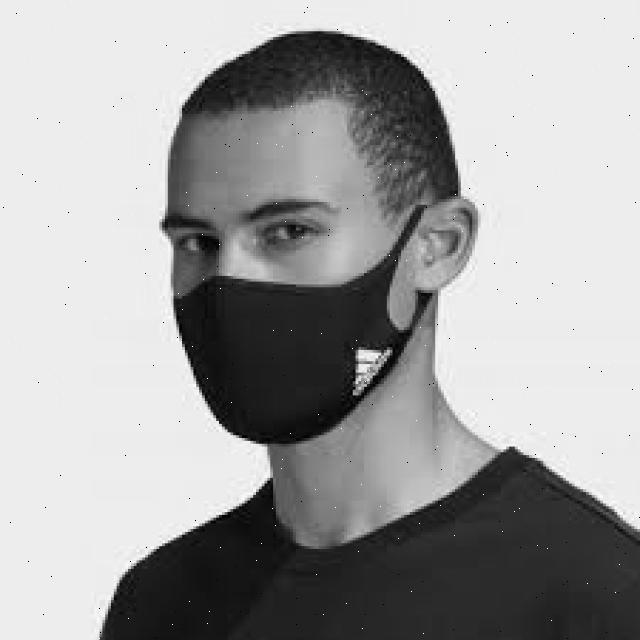fake: (171, 251, 423, 447)
real: (160, 108, 415, 458)
